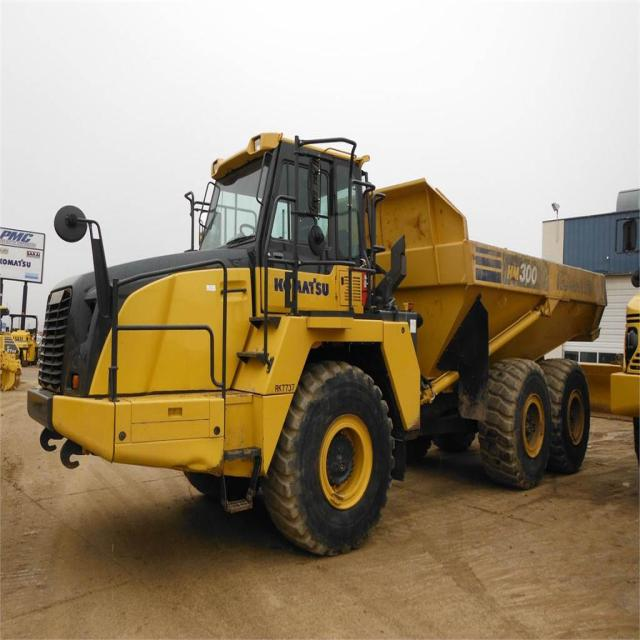dump_truck: (42, 123, 610, 546)
